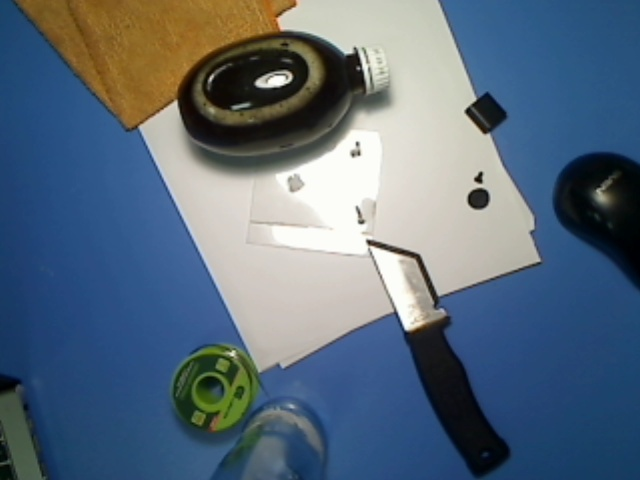plast_bottle: (169, 19, 395, 158)
